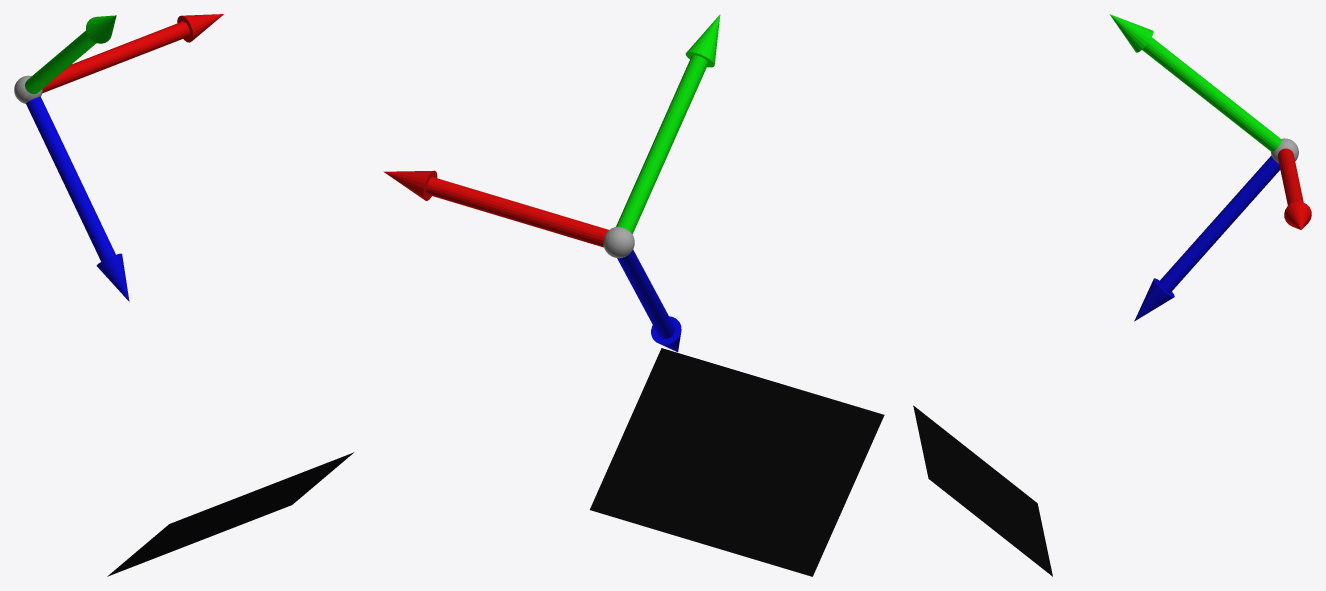
3 views of the same model, side by side, from view 1: azimuth 30°, elevation 25°; view 2: azimuth 150°, elevation 25°; view 3: azimuth 270°, elevation 25° (orthographic). The views are drawn at different scales.
Bounding box in the file's own units: 0.1542 × 0.3039 × 0.2147.
